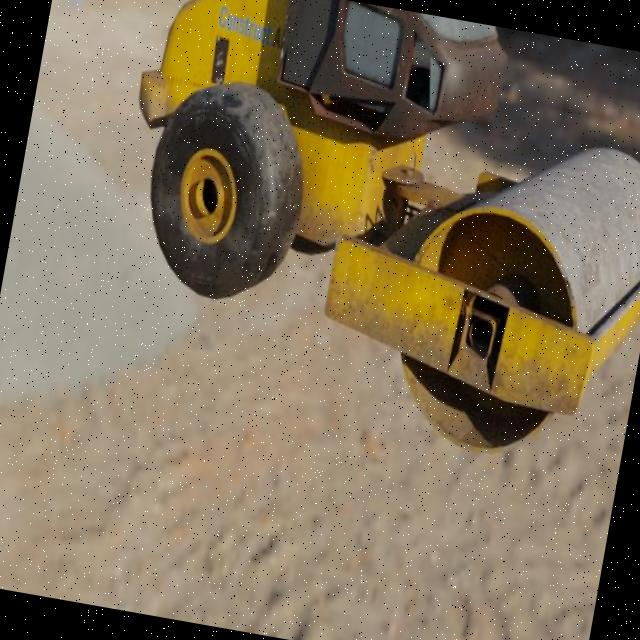Roller: (85, 0, 640, 479)
